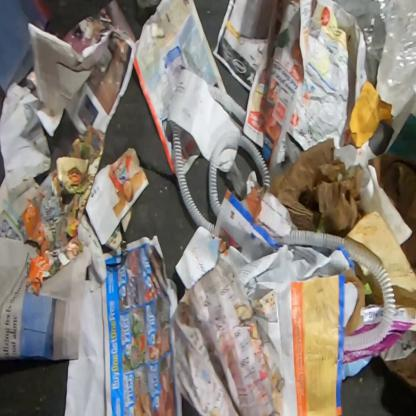cardboard: (343, 209, 415, 319), (368, 152, 415, 274), (341, 308, 416, 364), (381, 349, 415, 397), (354, 261, 382, 306)
rigid_plastic: (276, 228, 396, 352), (208, 130, 272, 218), (172, 122, 215, 235), (206, 81, 247, 126)
soft_plastic: (332, 0, 415, 102), (0, 0, 54, 98)
